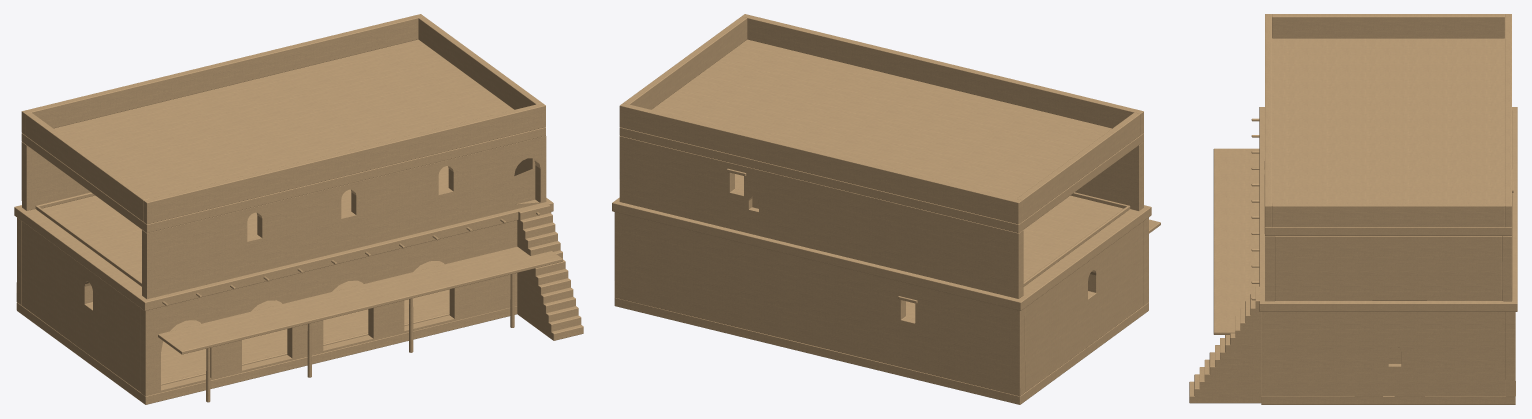
File: shops_11.glb
3 views of the same model, side by side, from view 1: azimuth 30°, elevation 25°; view 2: azimuth 150°, elevation 25°; view 3: azimuth 270°, elevation 25° (orthographic).
Visible parts, largest first — view 1: shops; view 2: shops; view 3: shops.
Boxes of the visible parts, box(x1,y1,x2,y2) form: shops: box(14, 14, 583, 404); shops: box(612, 14, 1160, 404); shops: box(1189, 14, 1517, 404).
Bounding box in the file's own units: 19.61 × 9.18 × 13.81.
Materials: 1 (1 with a texture image).
